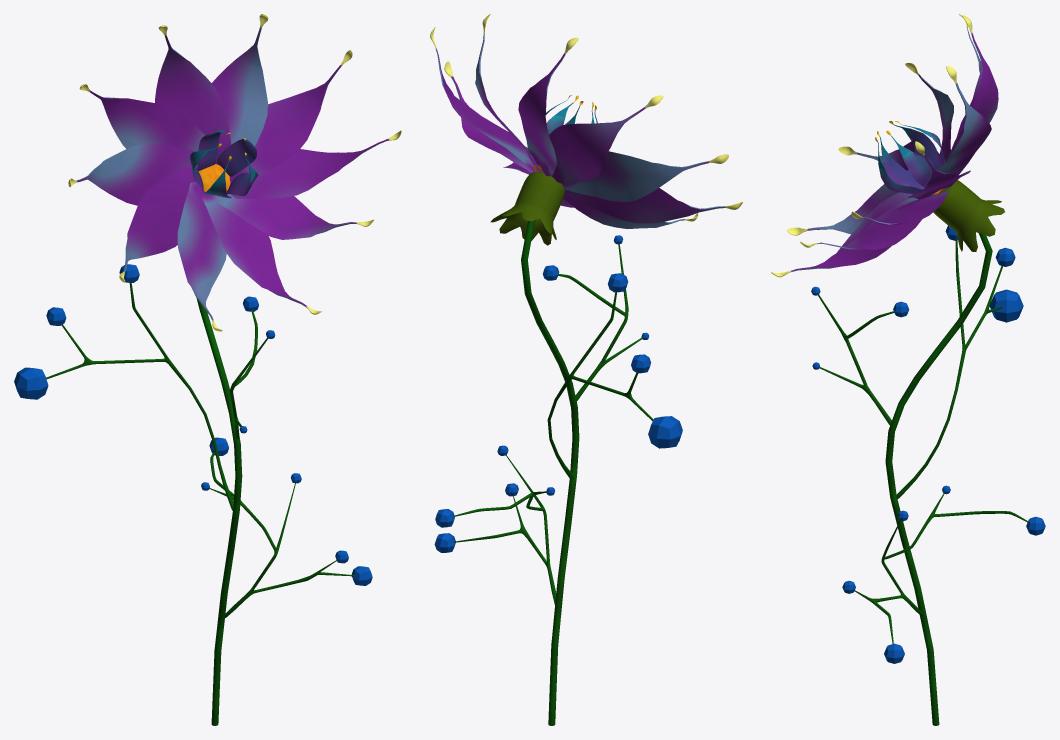
Rendered from flower.fbx.
3 views of the same model, side by side, from view 1: azimuth 30°, elevation 25°; view 2: azimuth 150°, elevation 25°; view 3: azimuth 270°, elevation 25° (orthographic). The views are drawn at different scales.
Parts seen in each view (by area): view 1: P01_Outer_Petals, P06_Branches, P05_Stem, P02_Inner_Petals, P07_Buds; view 2: P01_Outer_Petals, P05_Stem, P06_Branches, P07_Buds, P04_Calyx, P02_Inner_Petals; view 3: P01_Outer_Petals, P05_Stem, P06_Branches, P02_Inner_Petals, P04_Calyx, P07_Buds.
Part boxes in pixels (x1,y1,x2,y2): P01_Outer_Petals: (68, 14, 401, 331); P06_Branches: (46, 283, 354, 617); P05_Stem: (196, 298, 242, 725); P02_Inner_Petals: (190, 130, 258, 198); P07_Buds: (14, 264, 372, 585); P01_Outer_Petals: (430, 14, 742, 228); P05_Stem: (521, 220, 579, 725); P06_Branches: (454, 244, 653, 604); P07_Buds: (434, 235, 682, 552); P04_Calyx: (490, 172, 565, 245); P02_Inner_Petals: (536, 95, 597, 172); P01_Outer_Petals: (771, 14, 998, 277); P05_Stem: (885, 233, 992, 725); P06_Branches: (818, 241, 1027, 643); P02_Inner_Petals: (875, 121, 946, 195); P04_Calyx: (933, 180, 1004, 251); P07_Buds: (811, 225, 1045, 663).
Size of the model in its own units: 0.6384 by 1.38 by 0.4979.
Materials: 7 (7 with a texture image).
